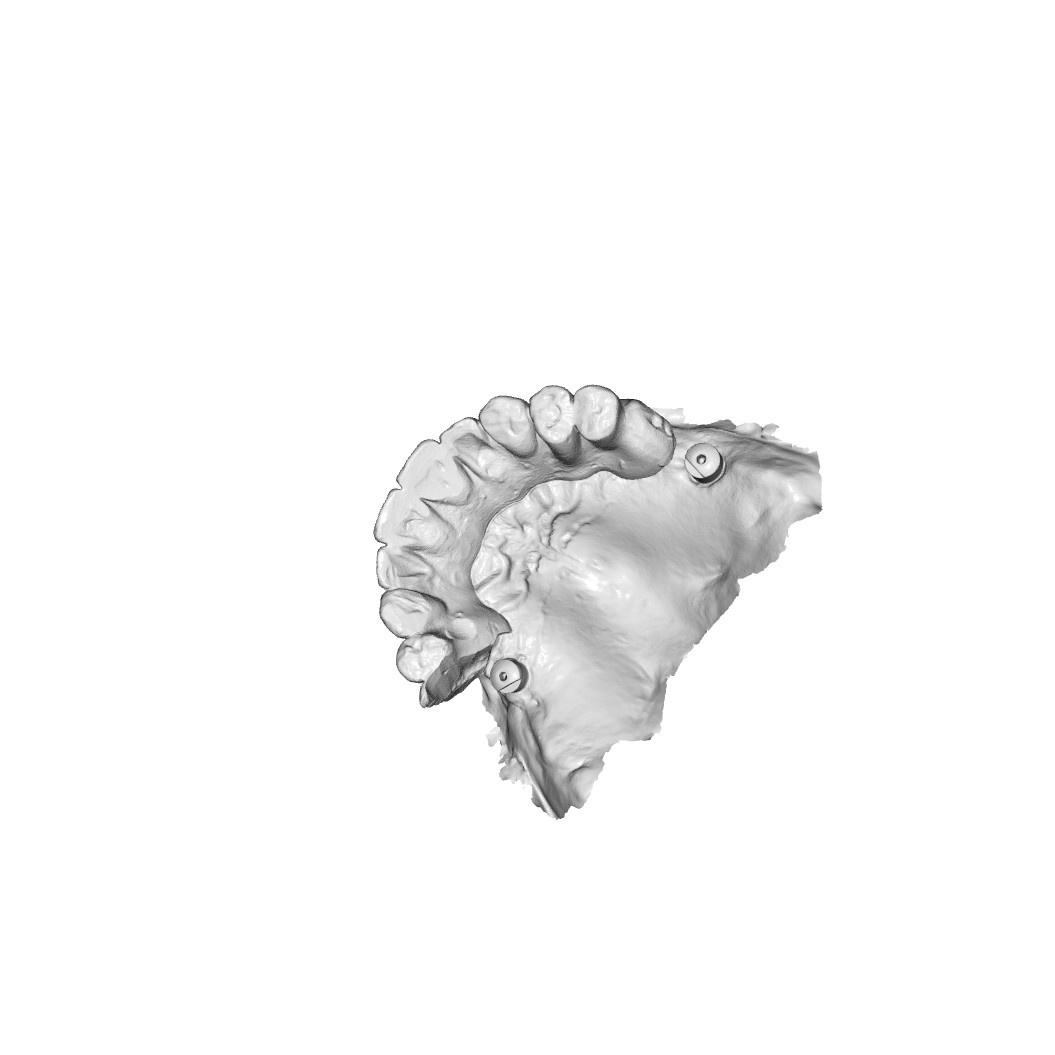canine: (480, 392, 539, 463), (378, 587, 451, 640)
implant: (683, 440, 731, 484), (485, 652, 531, 695)
incisor: (395, 436, 465, 498), (372, 492, 447, 549), (441, 418, 496, 475), (370, 548, 436, 594)
premolar: (391, 634, 453, 685), (531, 385, 575, 446), (574, 381, 619, 440)
